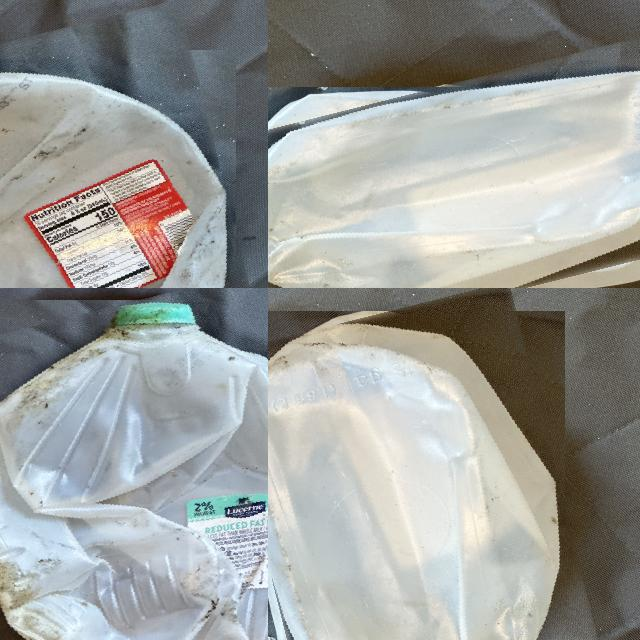milk-jug: (268, 295, 588, 640), (0, 288, 268, 640), (268, 55, 640, 288), (0, 23, 258, 288)
